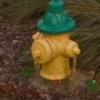Hydrant: (29, 4, 84, 89)
